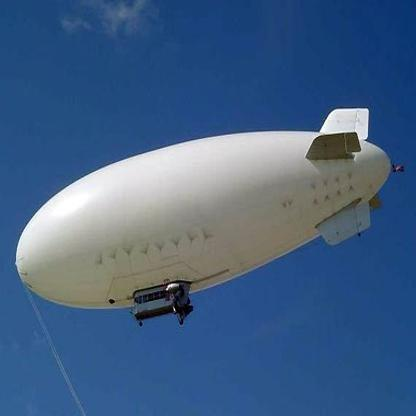Airship: (15, 103, 407, 326)
